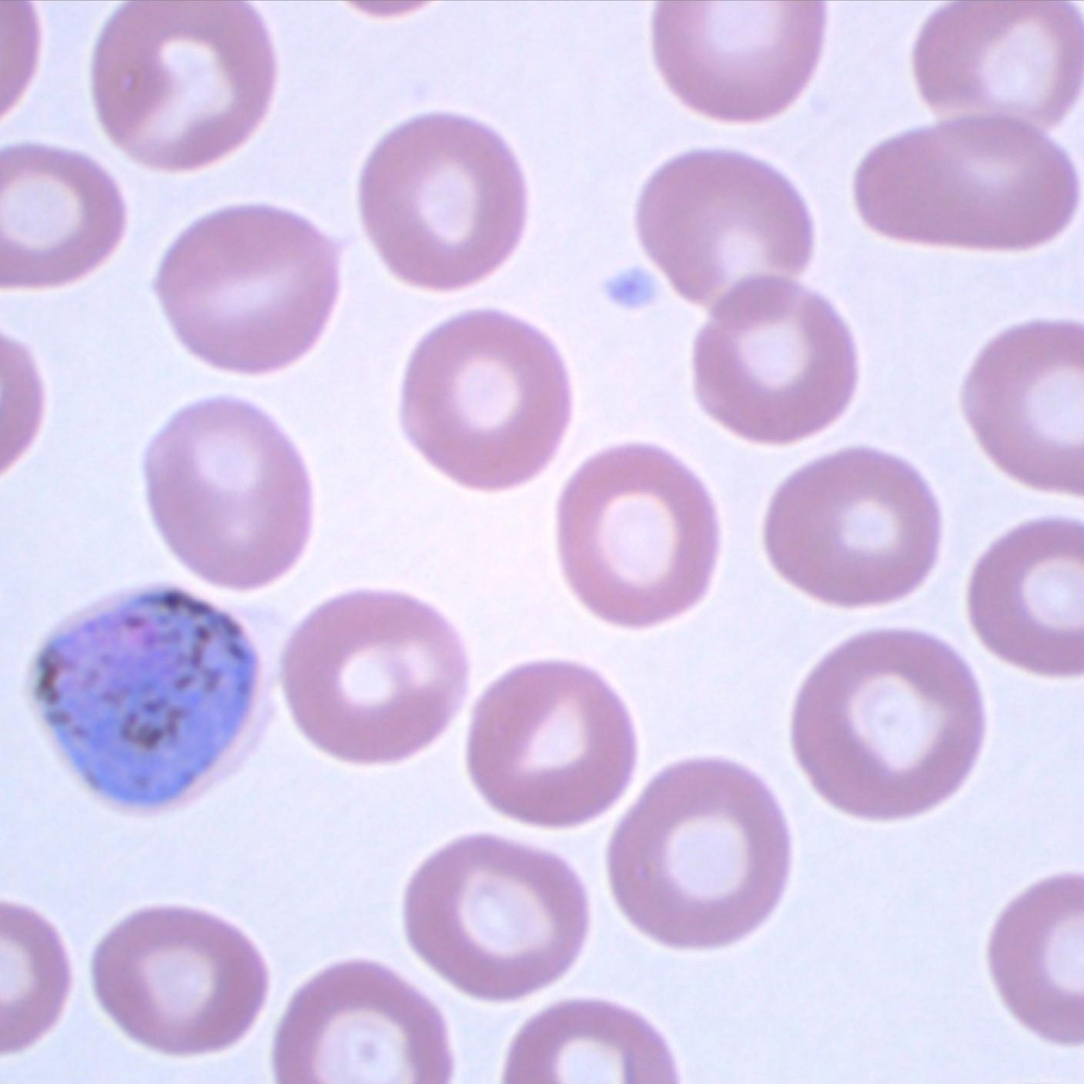Infected: (30, 581, 273, 823)
Uninfected: (275, 586, 473, 770), (791, 630, 979, 819), (607, 758, 791, 948), (142, 397, 312, 591), (362, 114, 531, 299), (156, 205, 340, 374), (405, 834, 587, 1001), (93, 3, 276, 169), (858, 114, 1075, 253), (555, 442, 718, 625), (400, 312, 569, 487), (765, 445, 940, 607), (691, 276, 858, 445), (468, 660, 632, 827), (638, 151, 815, 304), (90, 907, 265, 1056), (915, 0, 1083, 127), (961, 320, 1080, 493), (652, 3, 825, 122)
